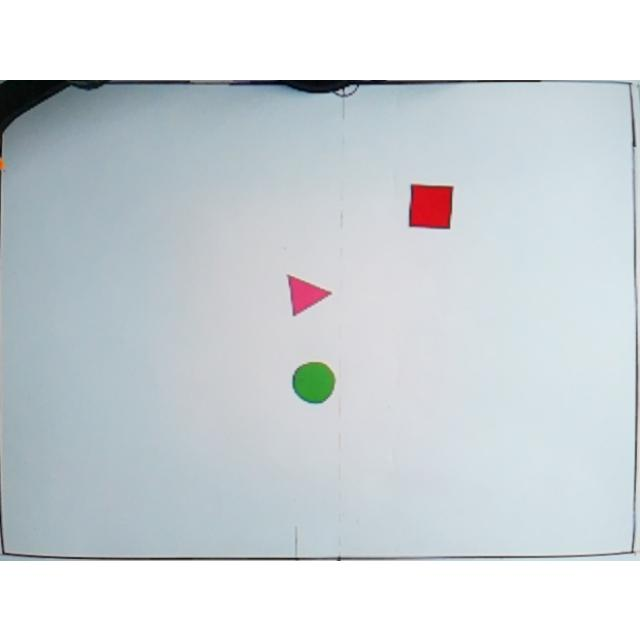greenCircle: (288, 356, 338, 406)
pinkTriangle: (285, 270, 333, 316)
redSquare: (406, 180, 456, 230)
